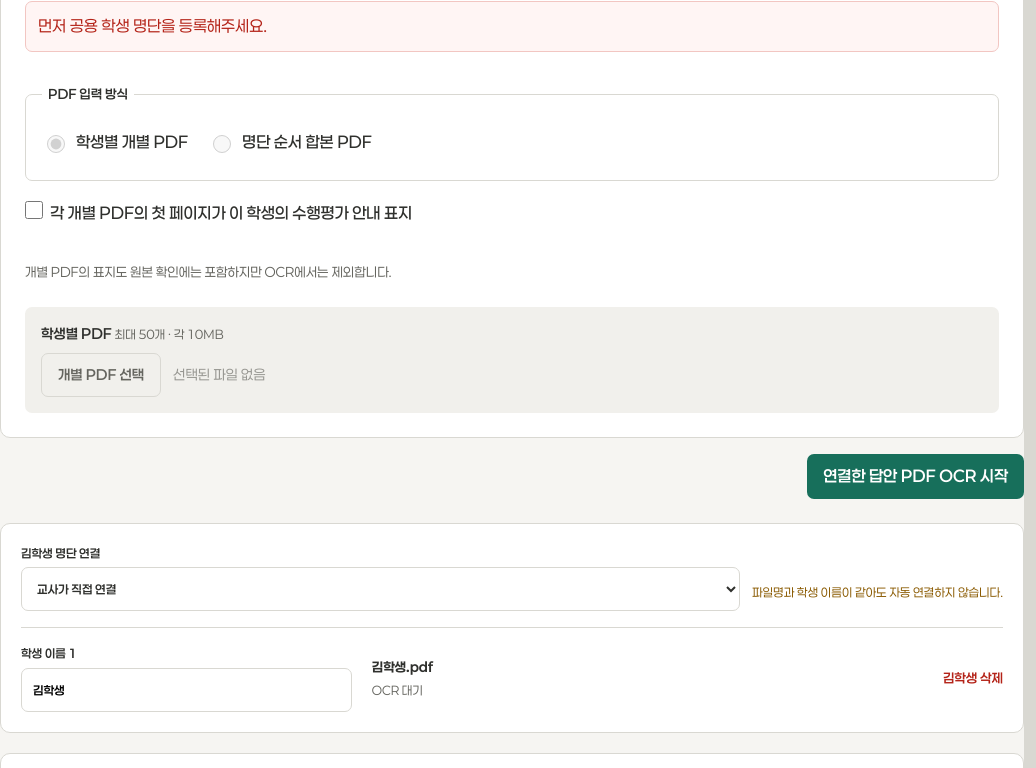
it: keeps successful OCR when another student fails
(page scrolled)
Click the button "연결한 답안 PDF OCR 시작".
click(916, 476)  # box left=807, top=454, right=1024, bottom=499
(page scrolled)
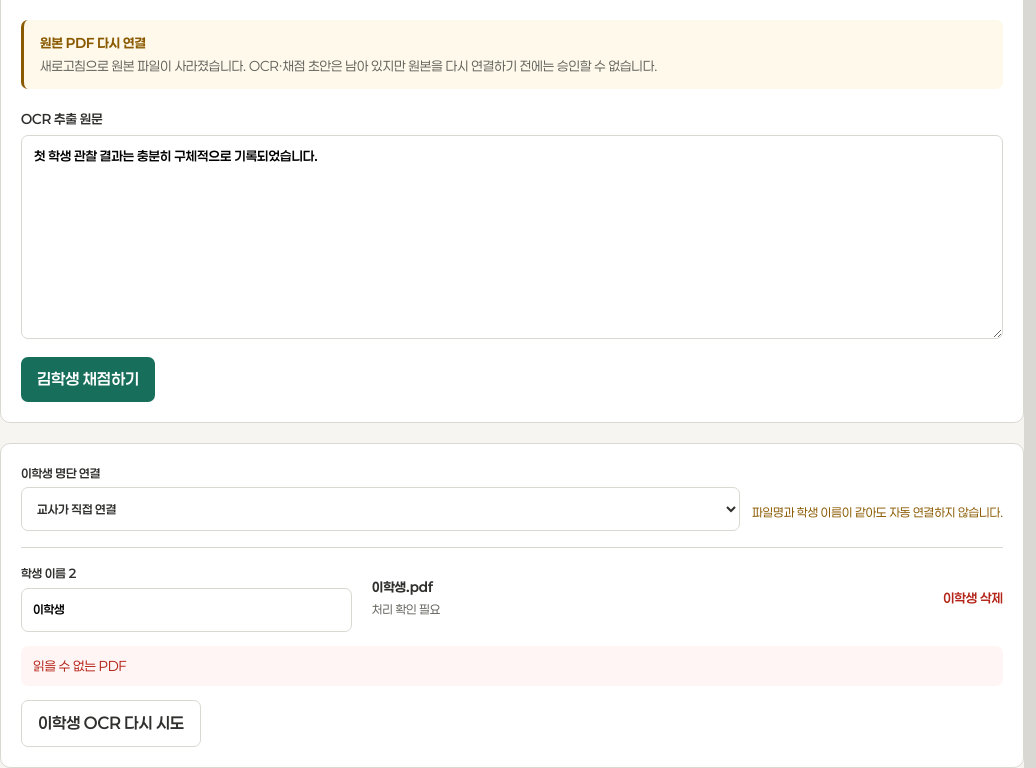
Expected: the text box showing "첫 학생 관찰 결과는 충분히 구체적으로 기록되었습니다." is shown, left=21, top=136, right=1003, bottom=339
Expected: the text "읽을 수 없는 PDF" is shown, left=21, top=646, right=1003, bottom=686
Expected: the button "이학생 OCR 다시 시도" is enabled, left=21, top=700, right=201, bottom=747
